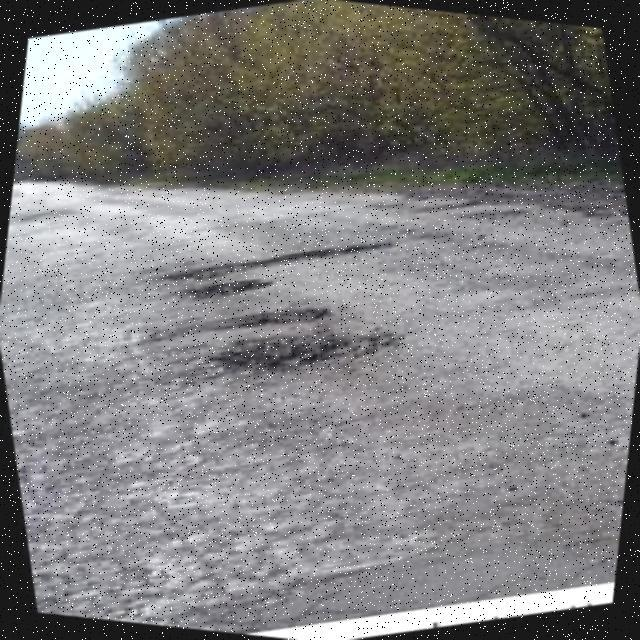Pothole: (161, 242, 393, 282), (215, 328, 402, 370), (196, 307, 329, 334), (191, 276, 275, 298)
